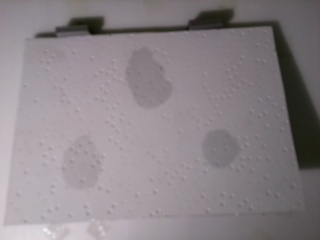Water_detected: (128, 56, 173, 109), (75, 140, 113, 183), (203, 136, 232, 166)
